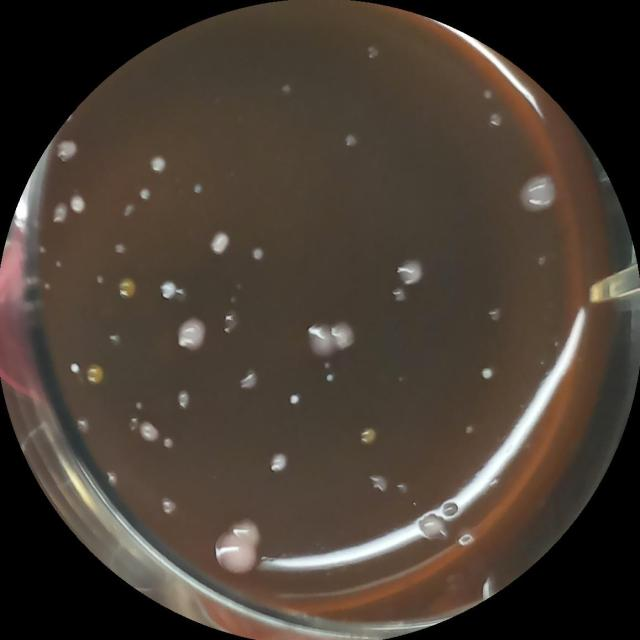Staphylococcus: (68, 359, 82, 376)
